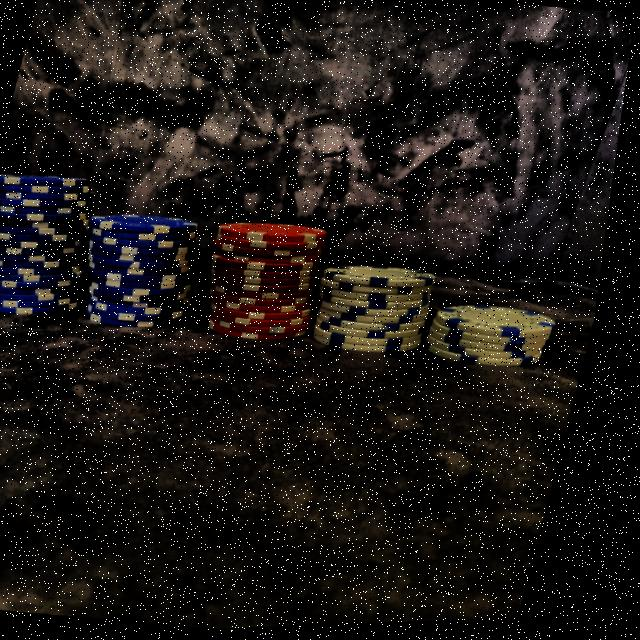Chip: (194, 198, 345, 355), (0, 155, 123, 343), (69, 197, 217, 346), (298, 244, 458, 377), (417, 276, 570, 382)
